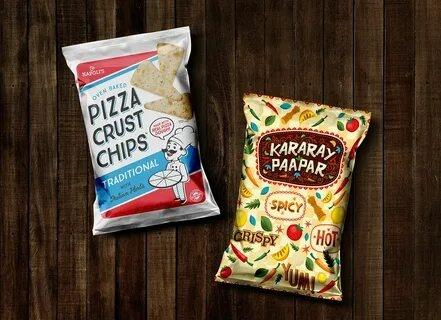snack: (61, 25, 222, 237), (214, 90, 373, 302)
